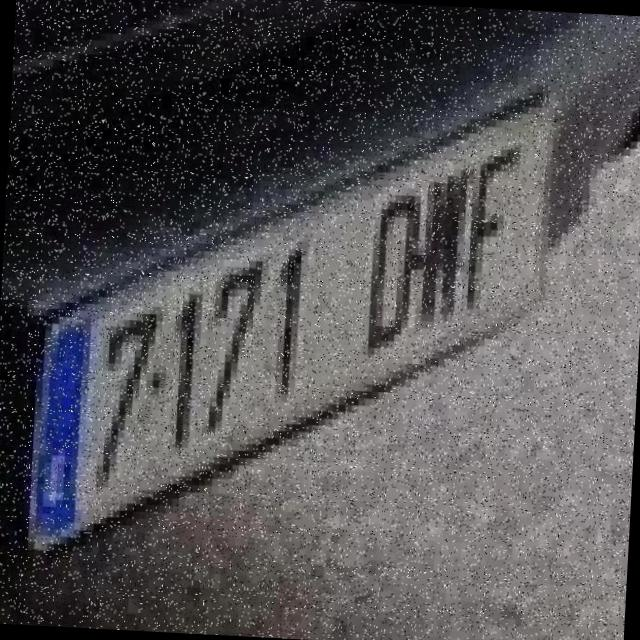LicensePlate: (21, 57, 568, 588)
